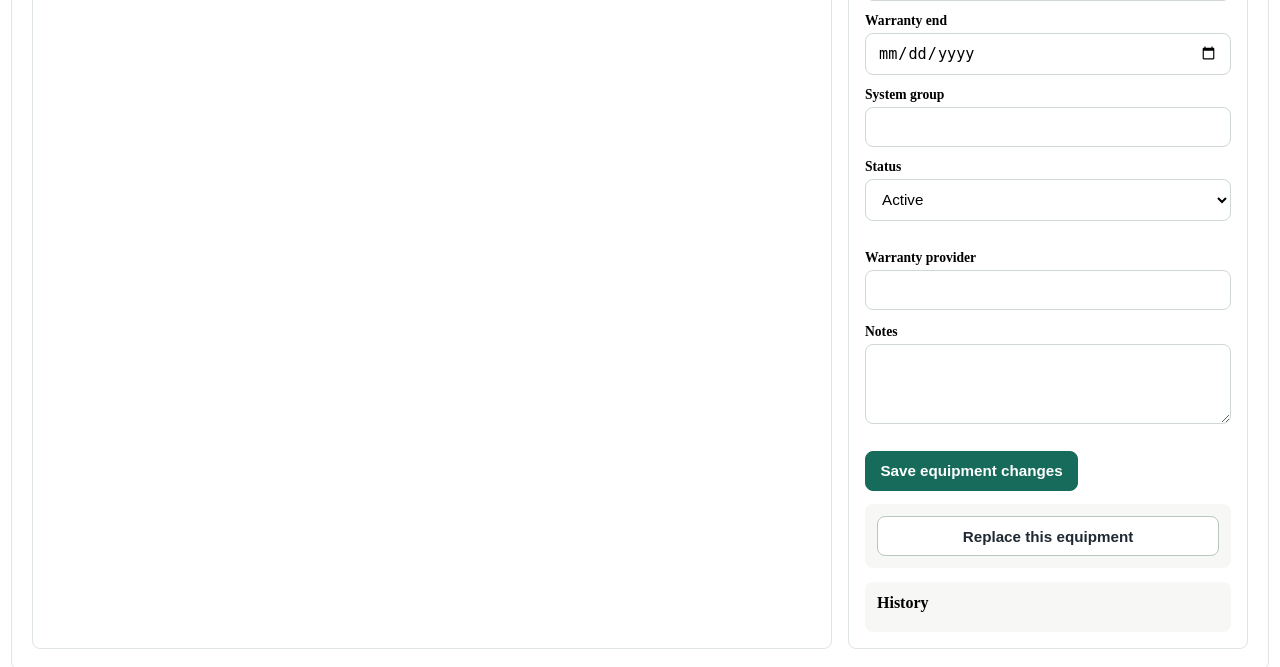
Test: EquipmentPanel › shows an empty replacement state when no pending replacement equipment exists
The image size is (1280, 667).
(page scrolled)
Click the button "Replace this equipment" at (1048, 536), box top-left (877, 516), bottom-right (1219, 556)
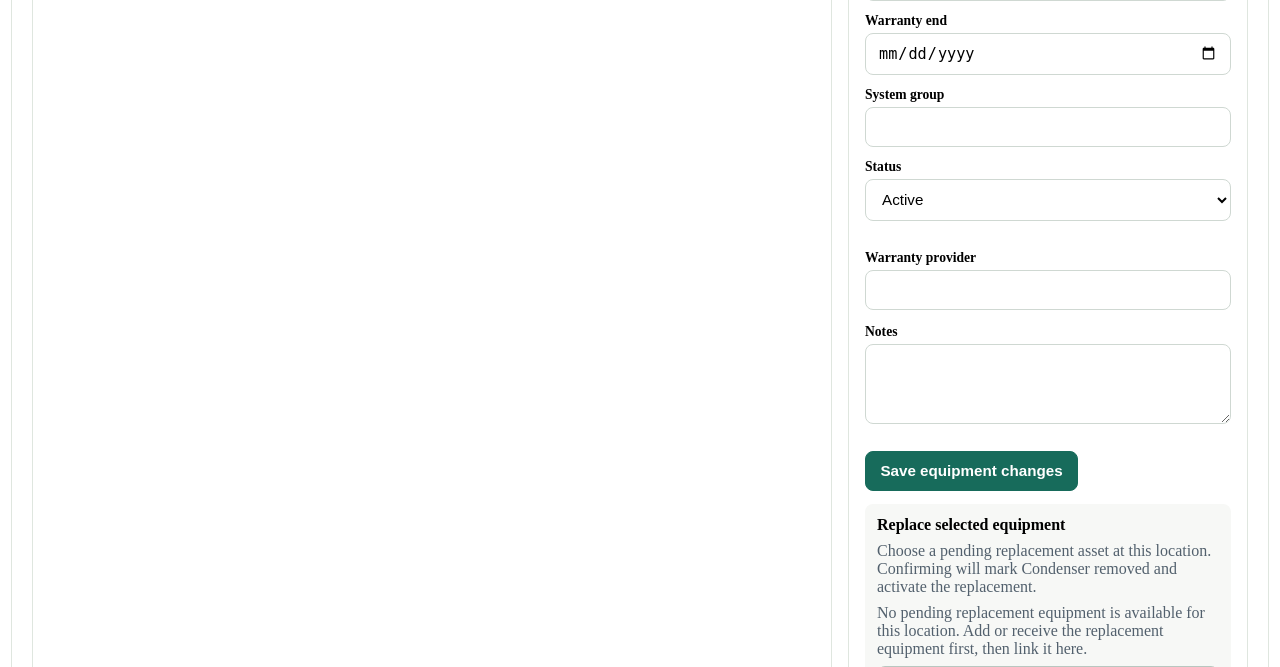
Expected: the text "No pending replacement equipment is available for this location" is shown, top-left (877, 604), bottom-right (1205, 657)
